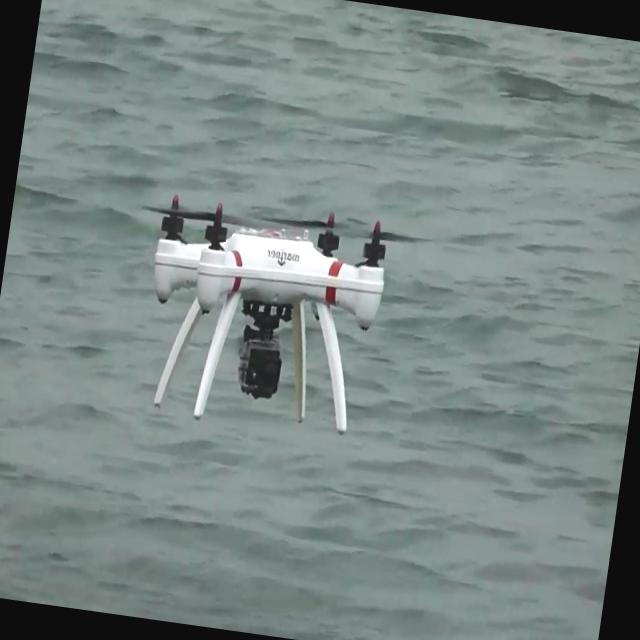drone: (127, 182, 413, 448)
